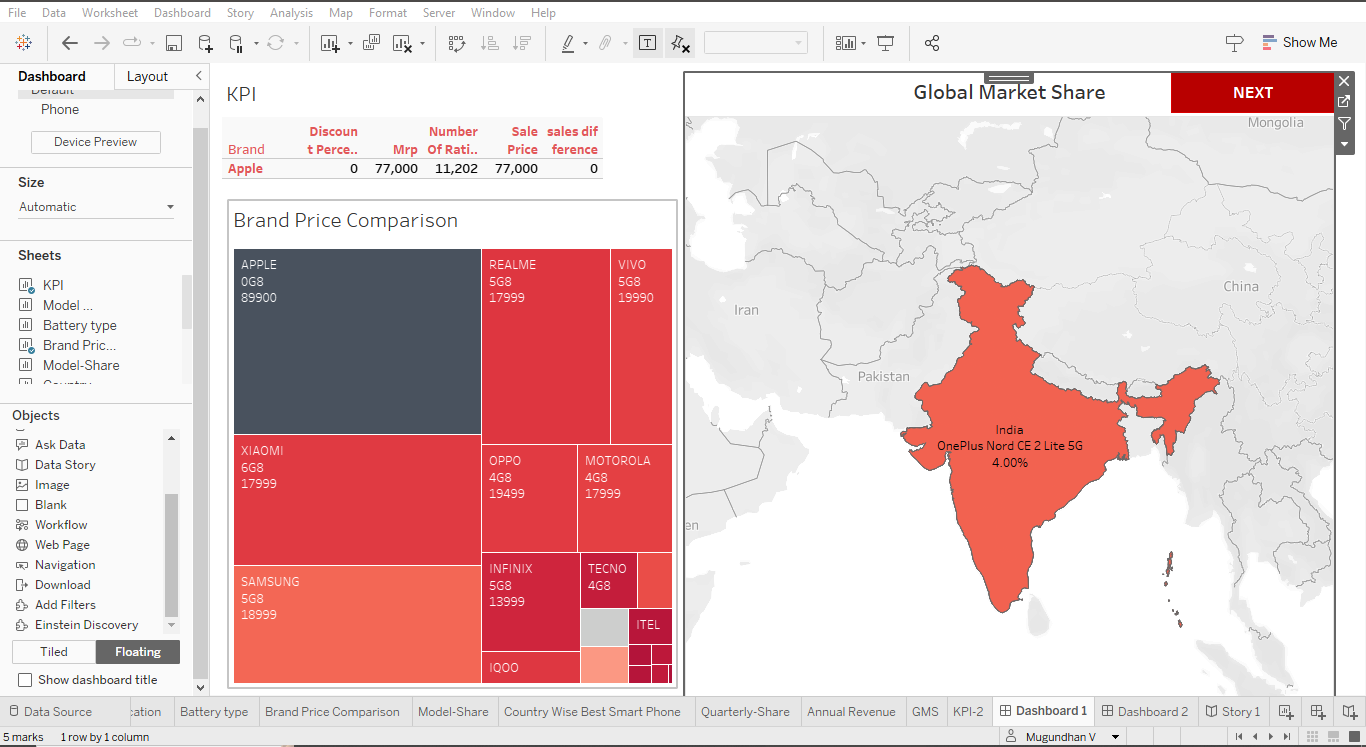

Layout of this report page (visuals, bound fields, positions):
{"tool":"tableau","page":{"name":"Dashboard 1","canvas":[1000,1000],"units":"permille","ordinal":0},"visuals":[{"type":"worksheet","title":"KPI","mark":"Automatic","rows":["Brand"],"box":[6.9,12.7,986.1,974.7]},{"type":"dashboard-object","box":[832,14.2,142,64.9]},{"type":"worksheet","title":"Brand Price Comparison","mark":"Automatic","box":[16.4,218.3,387,769]}]}

Visuals, with their boxes on the dashboard's canvas, which has no fixed pixel size, in thousandths of its width and height (x1, y1, x2, y2). These are canvas units, not pixel positions in the 1366x747 screenshot, which may show the page scaled, cropped or inside an application window:
"KPI" worksheet: locate(7, 13, 993, 987)
dashboard-object: locate(832, 14, 974, 79)
"Brand Price Comparison" worksheet: locate(16, 218, 403, 987)
